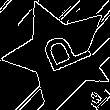P_SW: (28, 26, 90, 80)
